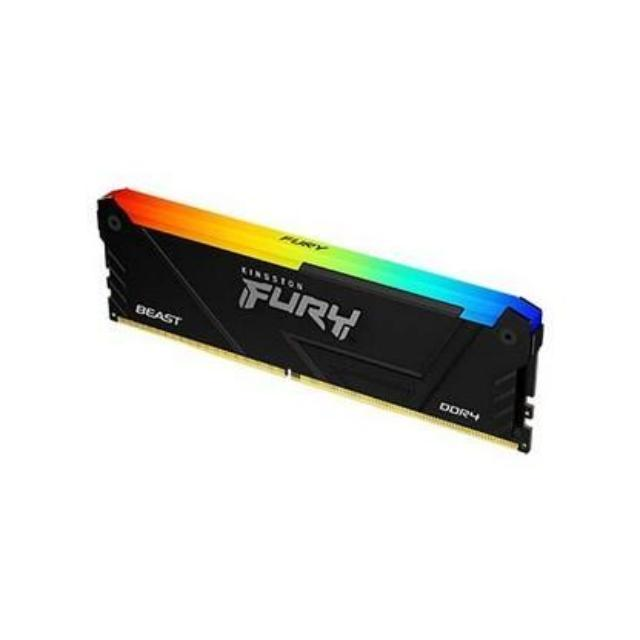RAM: (87, 184, 544, 461)
